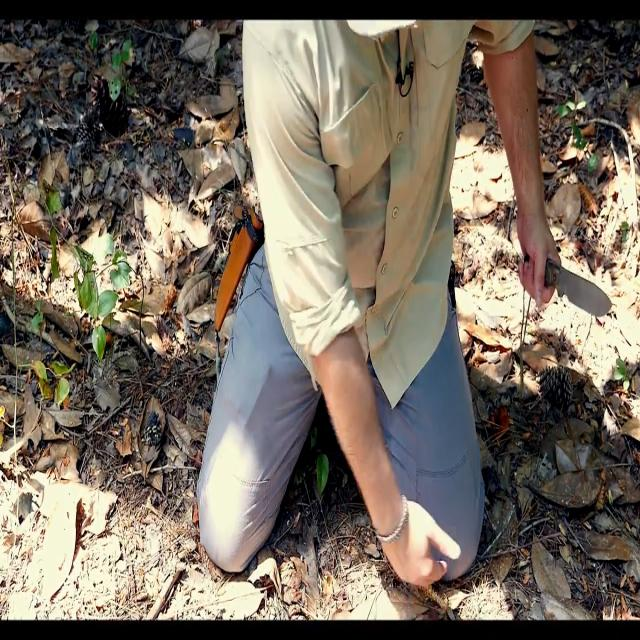knife: (552, 260, 614, 336)
